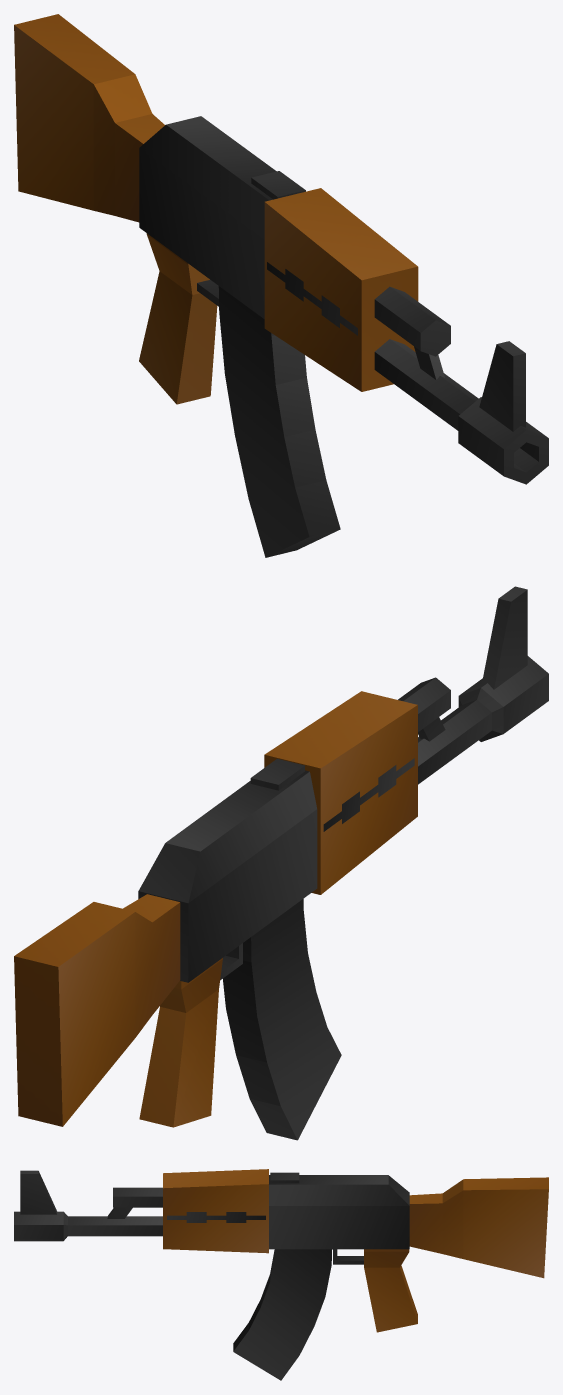
3 views of the same model, one above another, from view 1: azimuth 30°, elevation 25°; view 2: azimuth 150°, elevation 25°; view 3: azimuth 270°, elevation 25° (orthographic). The views are drawn at different scales.
Parts seen in each view (by area): view 1: Box007; view 2: Box007; view 3: Box007.
Boxes of the visible parts, x1,y1,x2,y2 form: Box007: [14, 14, 548, 557]; Box007: [14, 586, 548, 1140]; Box007: [14, 1169, 548, 1380].
Bounding box in the file's own units: 1.21 × 7.63 × 18.12.
